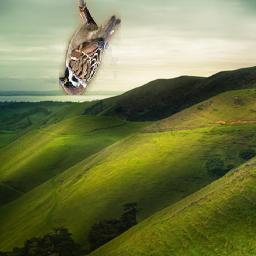Sparrow: (59, 0, 121, 95)
